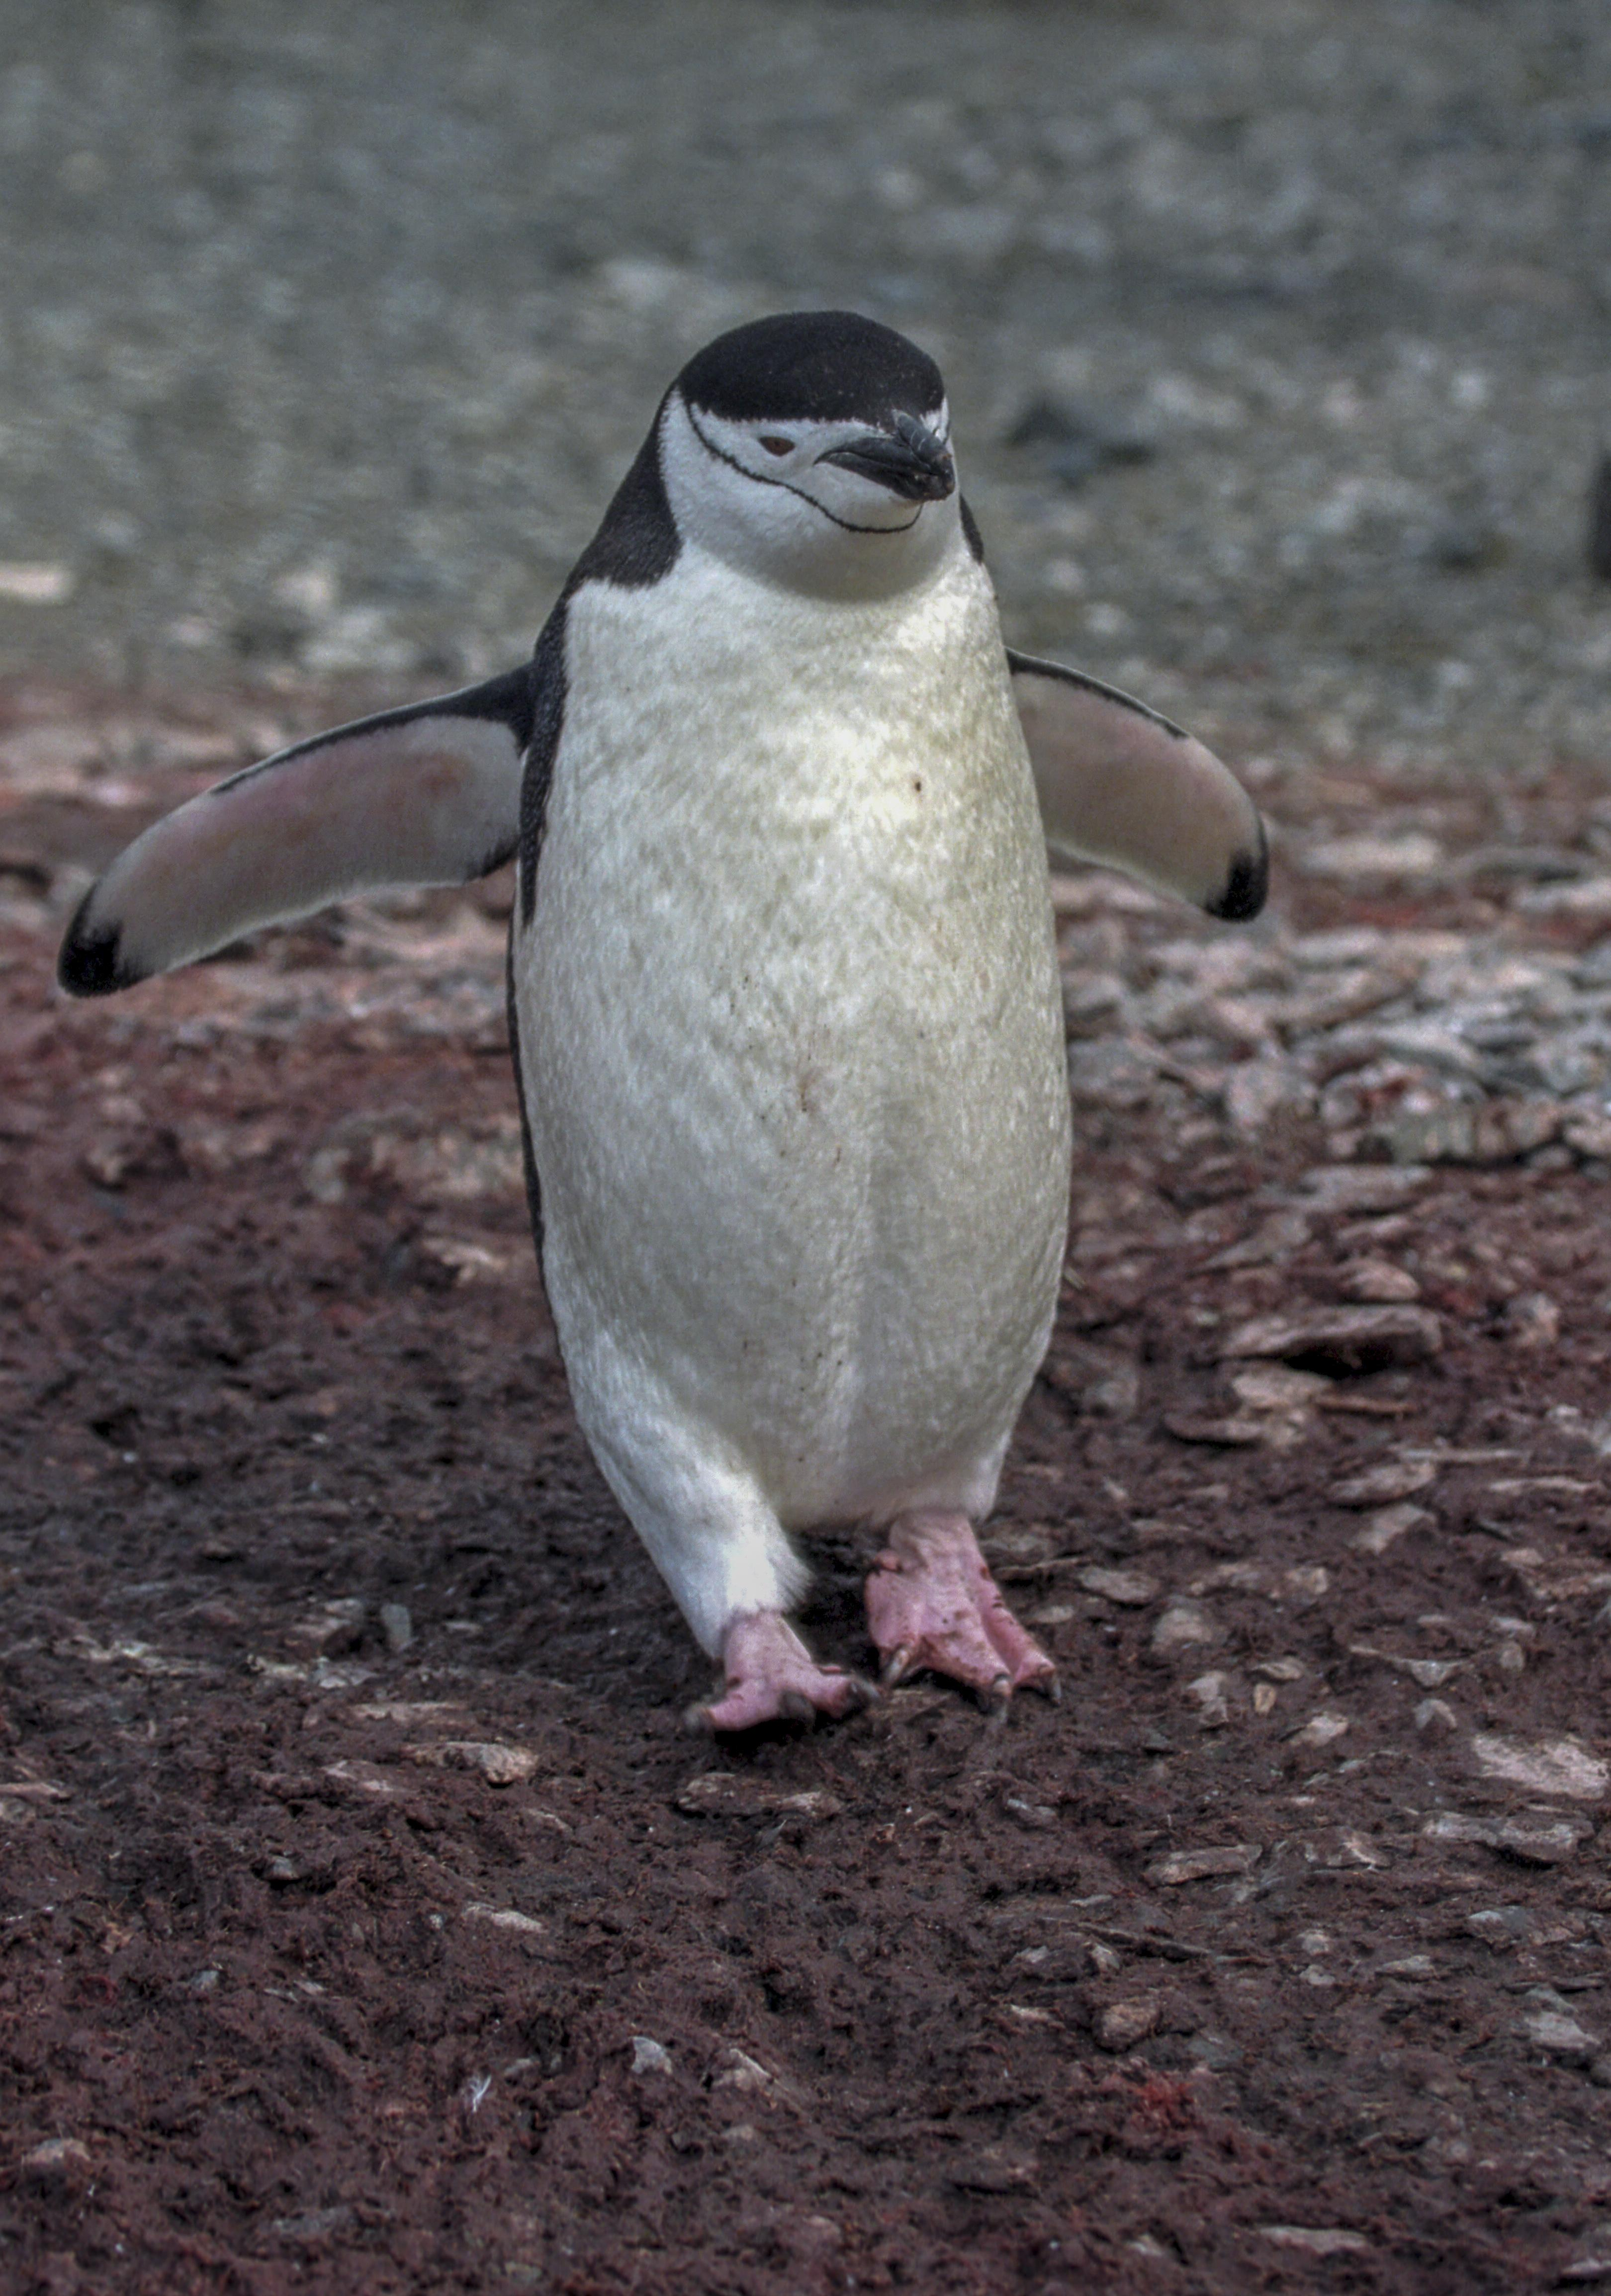chinstrap: (0, 260, 1361, 1743)
